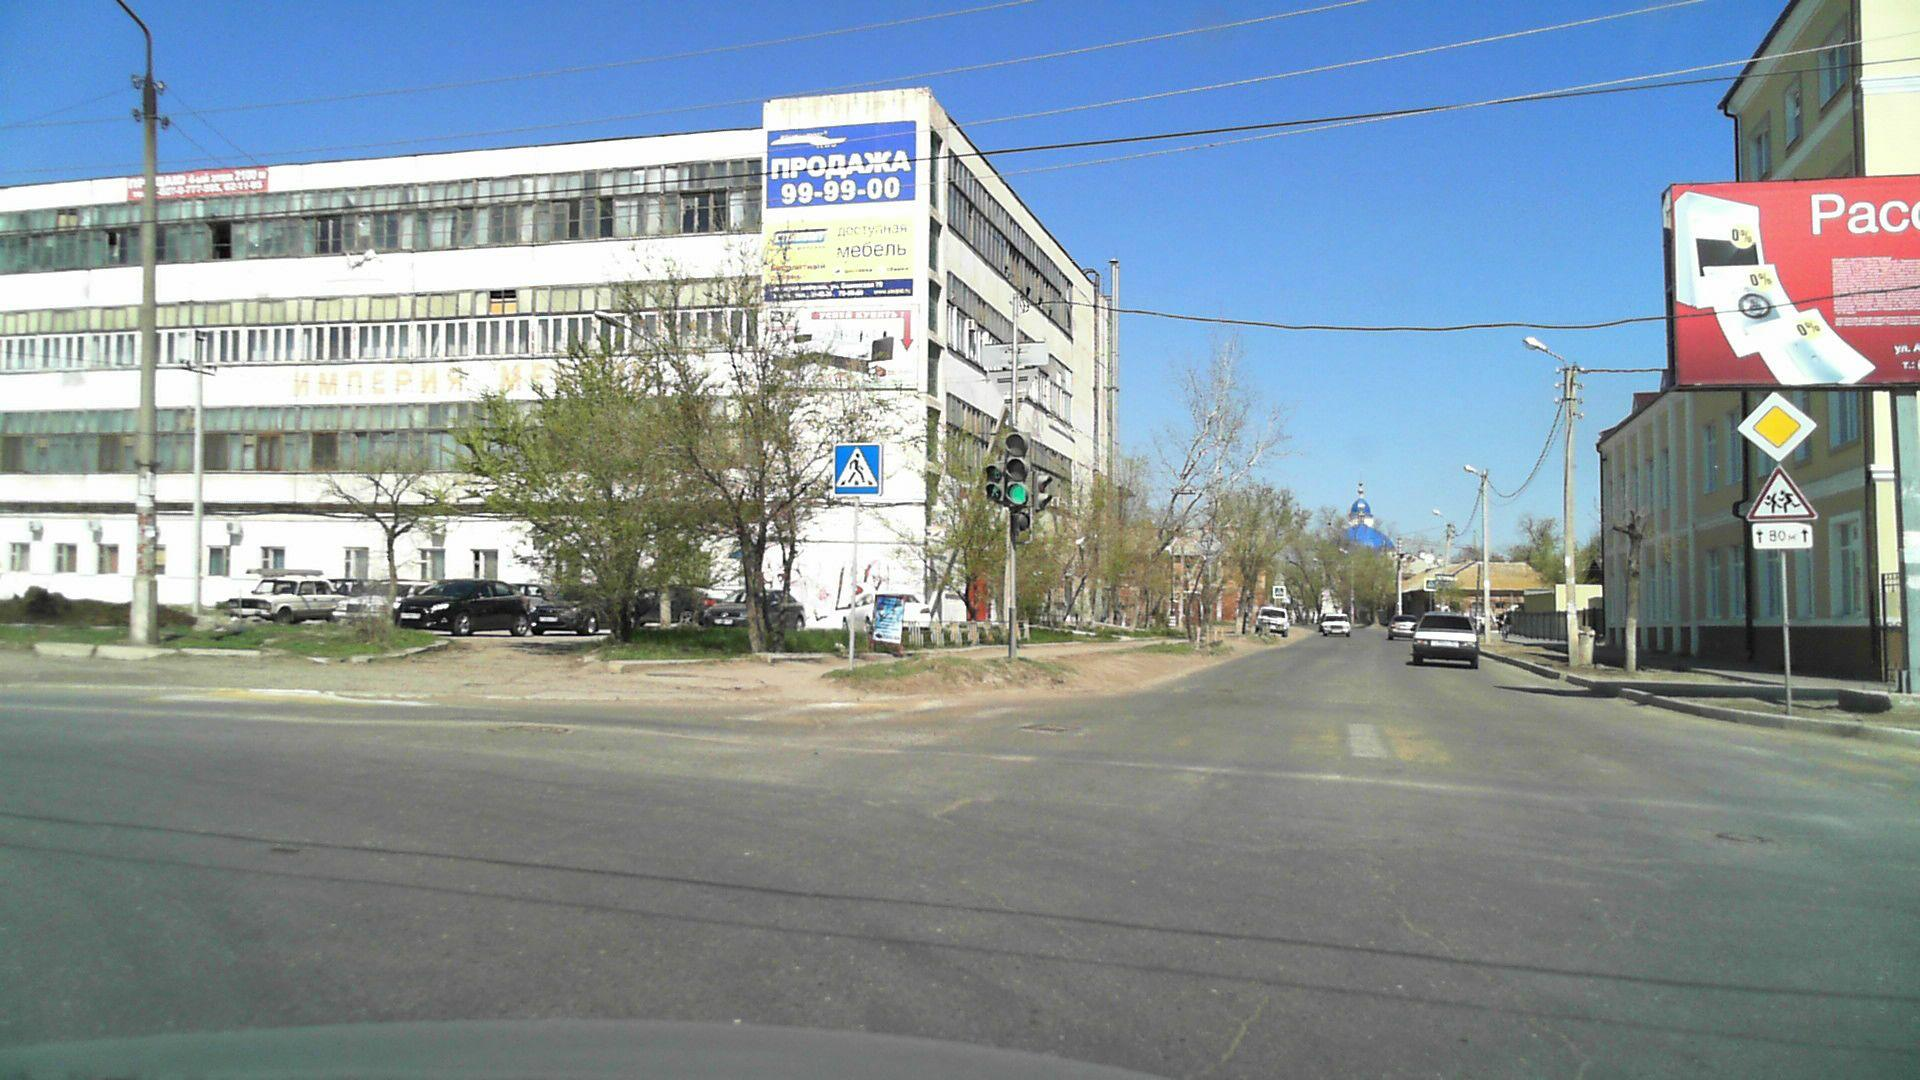1_23: (1745, 467, 1820, 522)
2_1: (1737, 390, 1815, 463)
5_19_1: (1424, 580, 1437, 591)
5_19_2: (833, 446, 882, 495), (1273, 585, 1287, 597)
8_2_1: (1753, 524, 1815, 549)
